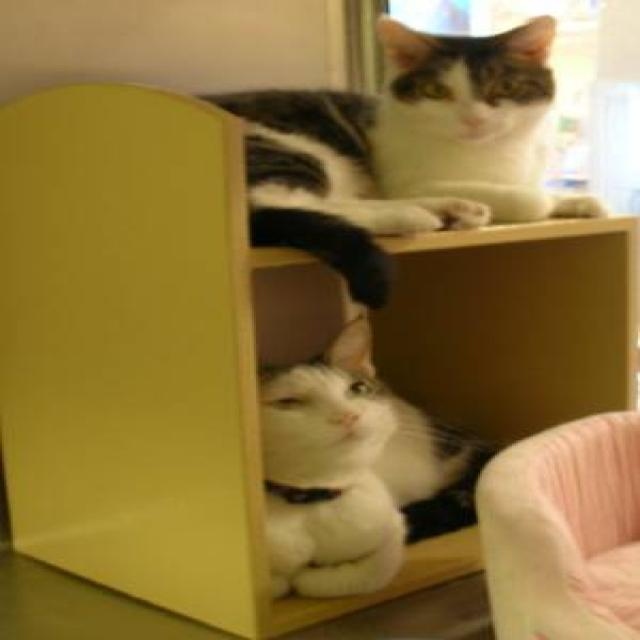cat: (192, 10, 608, 308), (256, 308, 493, 600)
